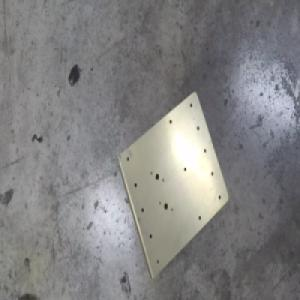MetalSheet: (115, 90, 230, 282)
